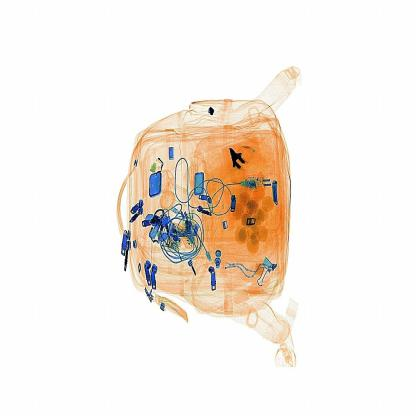gun: (221, 134, 258, 190)
